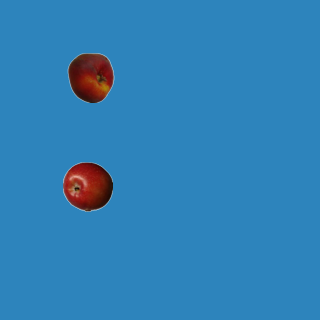Apple Braeburn: (62, 161, 112, 211)
Nectarine Flat: (65, 52, 115, 102)
